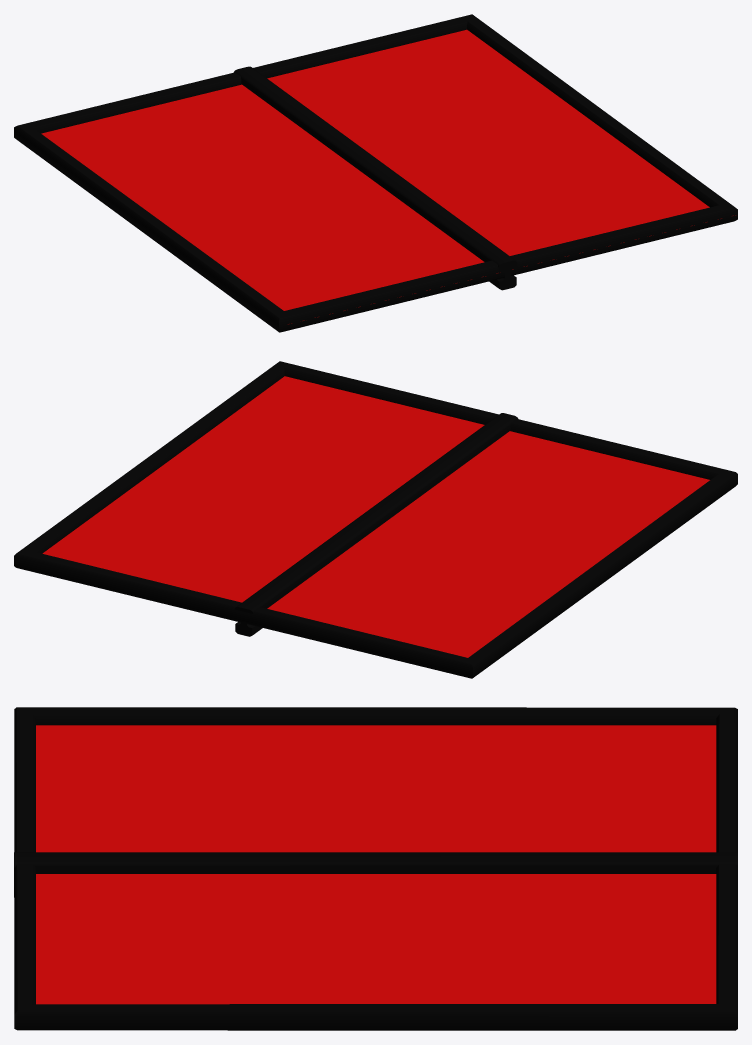
The model's file is SM_Scaf_Roof.FBX.
3 views of the same model, one above another, from view 1: azimuth 30°, elevation 25°; view 2: azimuth 150°, elevation 25°; view 3: azimuth 270°, elevation 25° (orthographic). The views are drawn at different scales.
Parts seen in each view (by area): view 1: SM_Scaf_Roof; view 2: SM_Scaf_Roof; view 3: SM_Scaf_Roof.
Part boxes in pixels (<box>): SM_Scaf_Roof: <box>14,14,737,332</box>; SM_Scaf_Roof: <box>14,361,737,678</box>; SM_Scaf_Roof: <box>14,707,737,1030</box>.
Size of the model in its own units: 2 by 0.1129 by 2.
